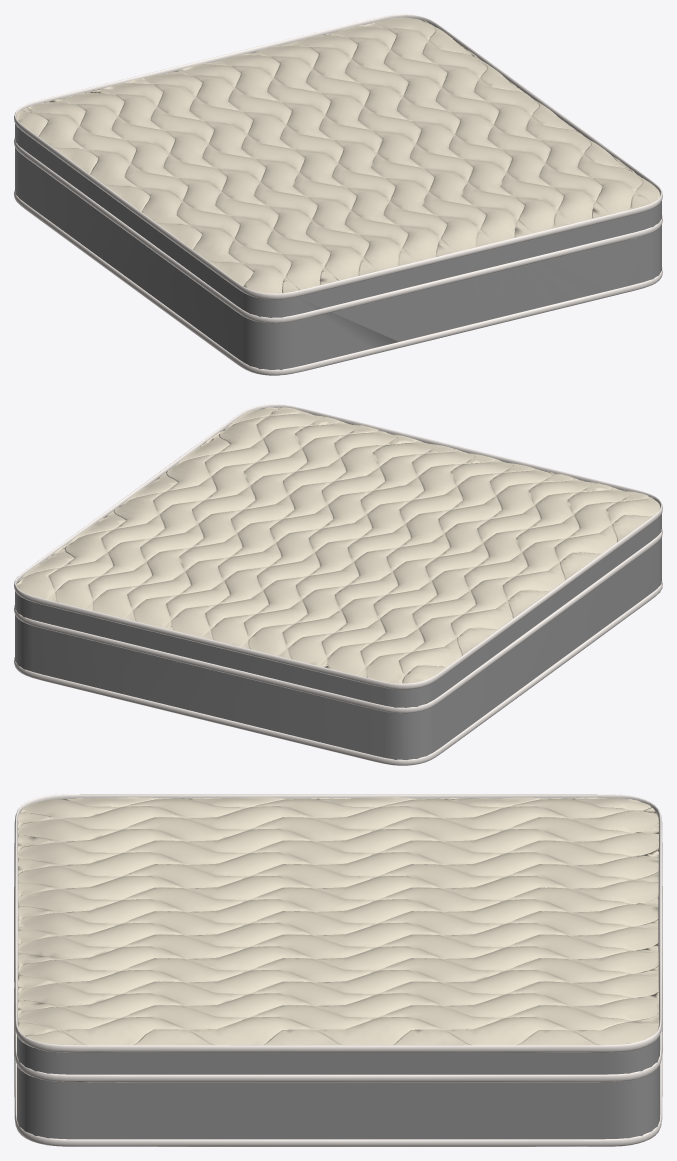
File: bed_proxy.glb
The picture shows the model from 3 angles, top to bottom: view 1: azimuth 30°, elevation 25°; view 2: azimuth 150°, elevation 25°; view 3: azimuth 270°, elevation 25°; orthographic projection. The views are drawn at different scales.
Visible parts, largest first — view 1: sec1, group3_pCylinder2; view 2: sec1, group3_pCylinder2; view 3: sec1, group3_pCylinder2.
Boxes of the visible parts, x1,y1,x2,y2 form: sec1: (14, 14, 662, 299); group3_pCylinder2: (14, 124, 662, 375); sec1: (14, 404, 662, 689); group3_pCylinder2: (14, 514, 662, 765); sec1: (14, 794, 662, 1052); group3_pCylinder2: (14, 955, 662, 1146).
Bounding box in the file's own units: 2.53 × 0.5006 × 2.74.
3 materials, 1 textured.
